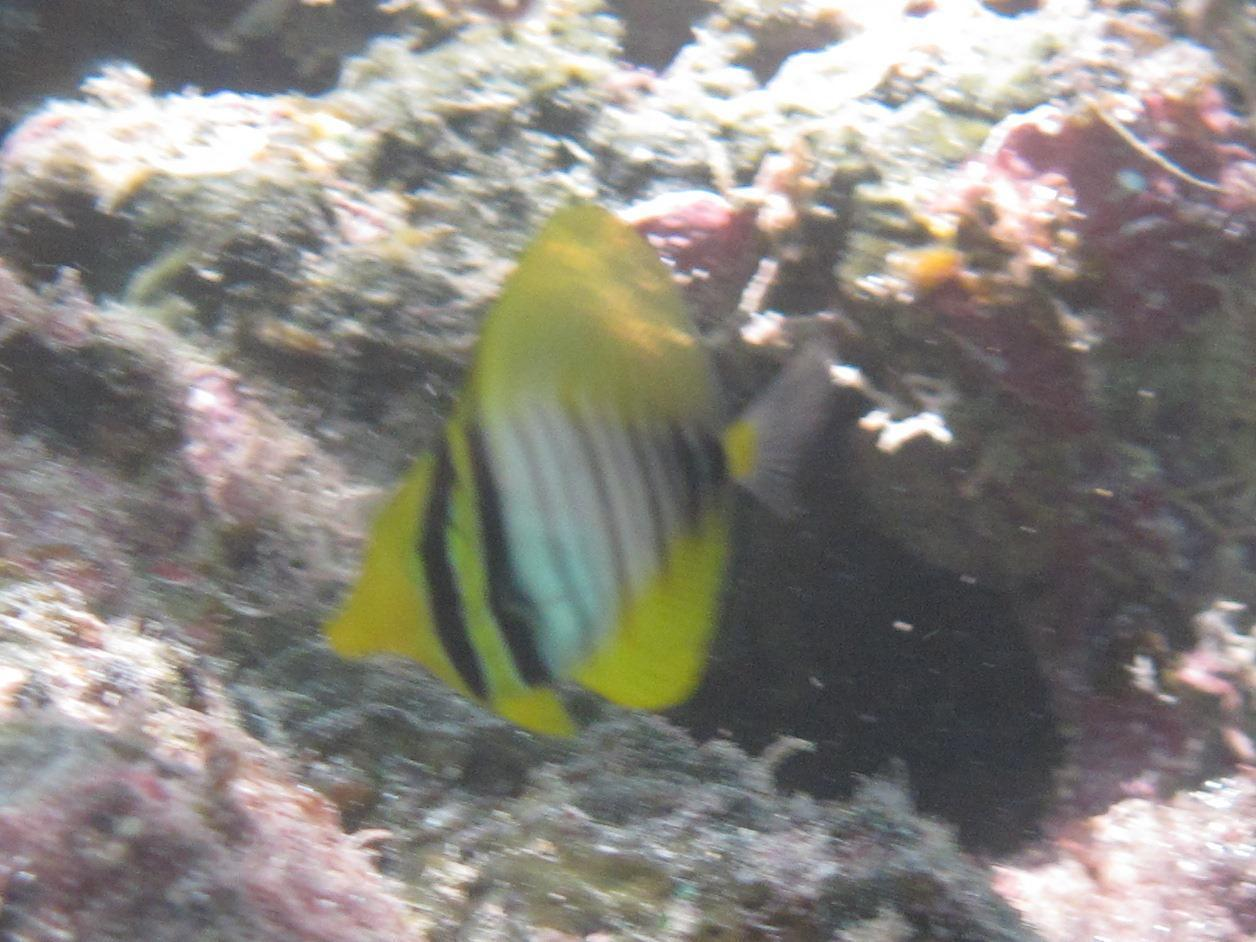Fish: (260, 174, 936, 767)
